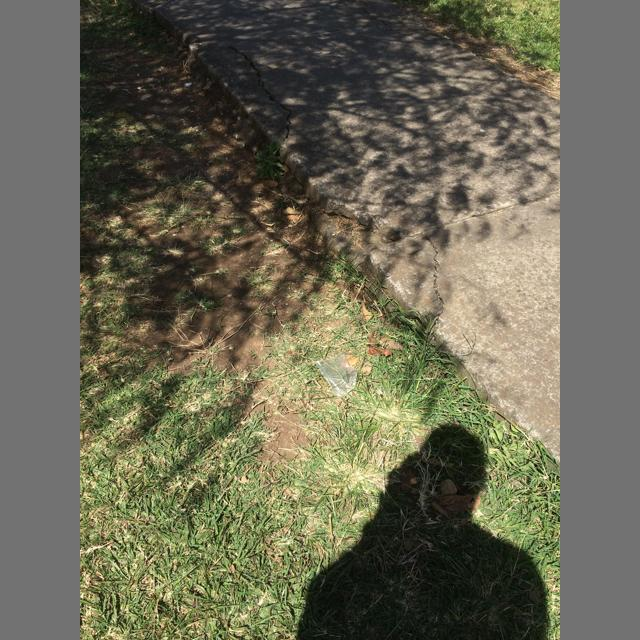litter: (315, 352, 359, 396)
